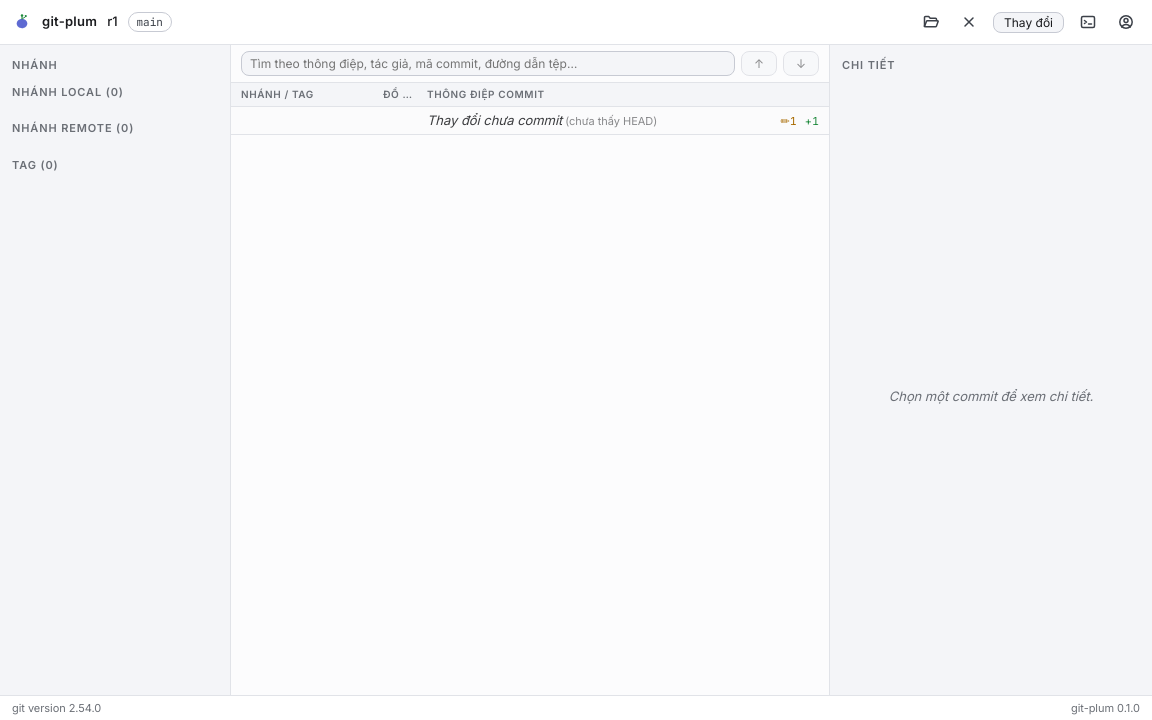
vòng commit nối vào App (WORK-10, WORK-11) › có thay đổi → hàng WIP hiện, và bấm nó mở ChangeList + CommitBox (WORK-11)
Click the button with test id "wip-row": (530, 121) [231, 107, 829, 135]
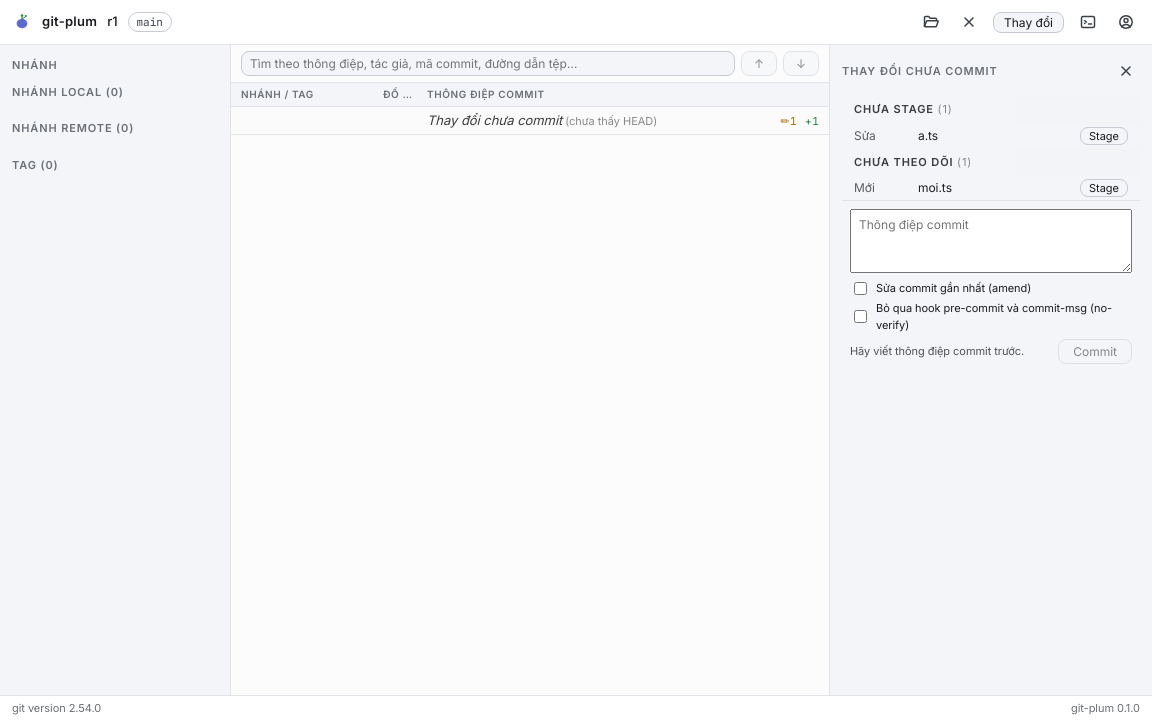
Expected: the element with test id "change-list" is shown, [842, 95, 1140, 200]
Expected: the element with test id "commit-box" is shown, [842, 200, 1140, 372]
